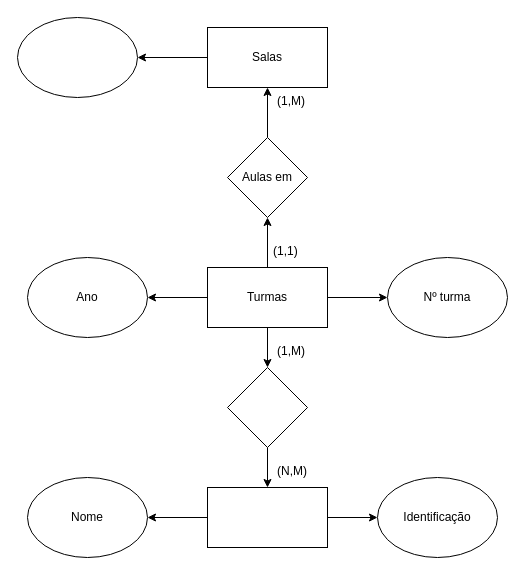
This 525x575 diagram has some shape labels left out. The shapes that lost their labels are listed below. From the top down, each one's box as (x1, y1, x2, y2) in pixels, then its label:
(16, 16, 138, 98): Nº sala
(226, 366, 308, 448): Tem
(206, 486, 328, 548): Professores
